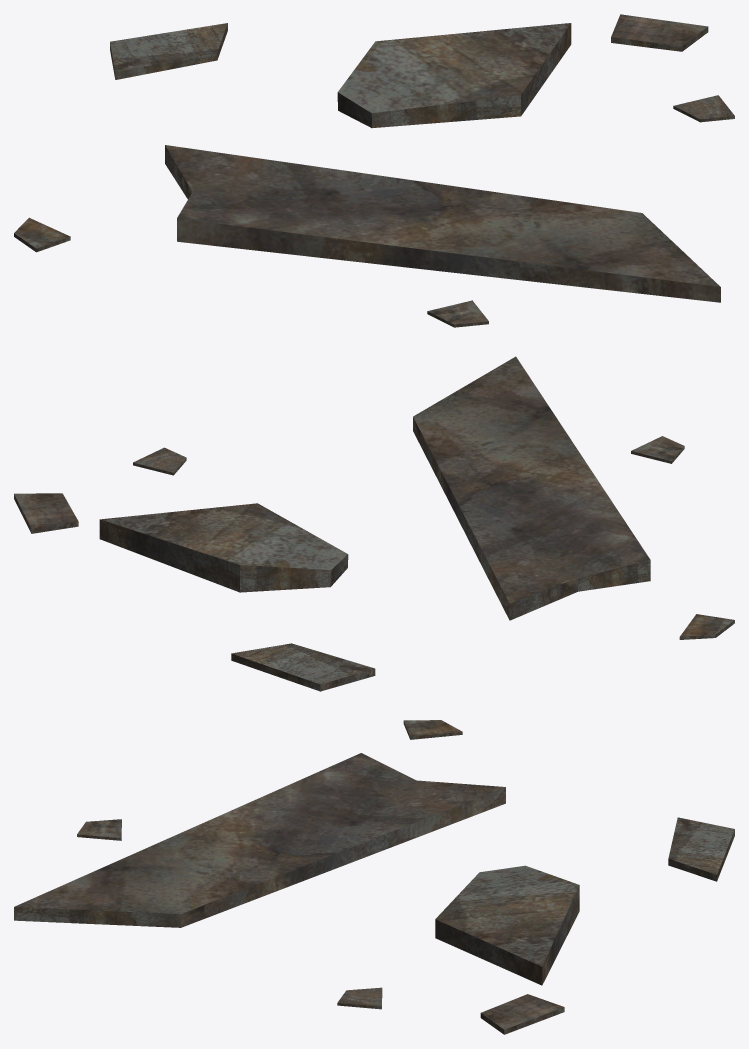
Rendered from exploded_wall_parts_02.dae.
3 renders of one model, top to bottom at view 1: azimuth 30°, elevation 25°; view 2: azimuth 150°, elevation 25°; view 3: azimuth 270°, elevation 25°, orthographic. The views are drawn at different scales.
Visible parts, largest first — view 1: Mesh; view 2: Mesh; view 3: Mesh.
Part boxes in pixels (<box>): Mesh: <box>14,14,734,327</box>; Mesh: <box>14,356,734,691</box>; Mesh: <box>14,720,734,1034</box>.
Size of the model in its own units: 0.9062 by 0.0357 by 0.8861.
